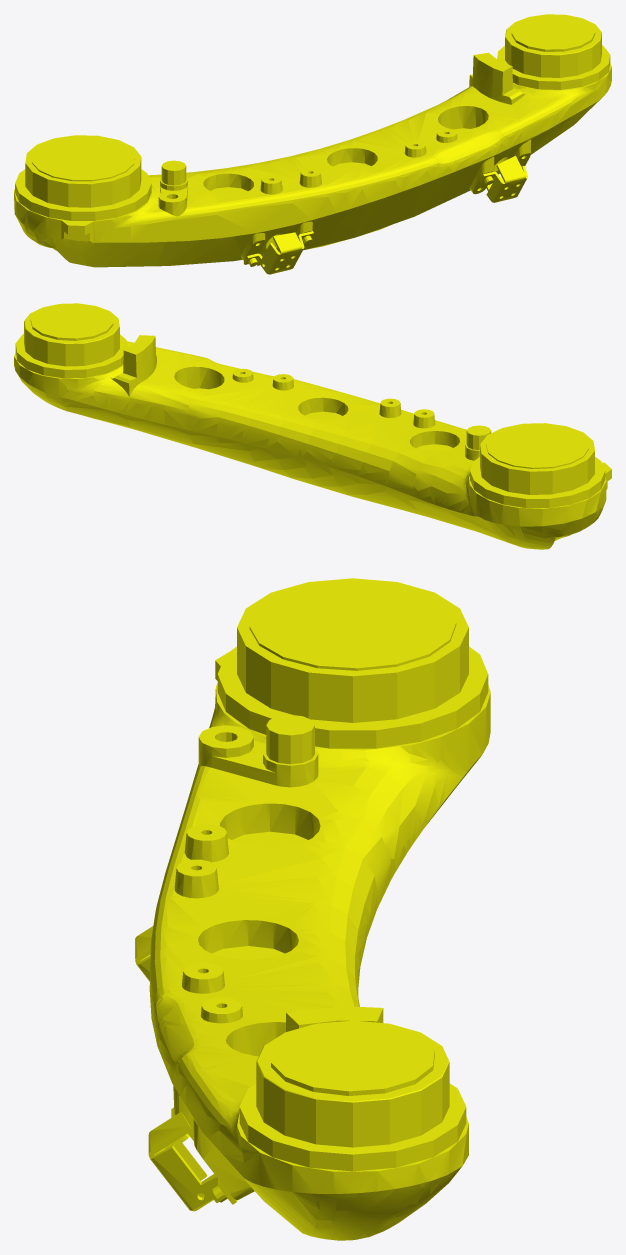
The model's file is arm2.dae.
3 renders of one model, top to bottom at view 1: azimuth 30°, elevation 25°; view 2: azimuth 150°, elevation 25°; view 3: azimuth 270°, elevation 25°, orthographic. The views are drawn at different scales.
Parts seen in each view (by area): view 1: Mesh7.001; view 2: Mesh7.001; view 3: Mesh7.001.
Part boxes in pixels (x1,y1,x2,y2): Mesh7.001: [14, 14, 611, 274]; Mesh7.001: [14, 303, 611, 549]; Mesh7.001: [135, 578, 490, 1240].
Bounding box in the file's own units: 0.7908 × 0.2116 × 0.1732.
